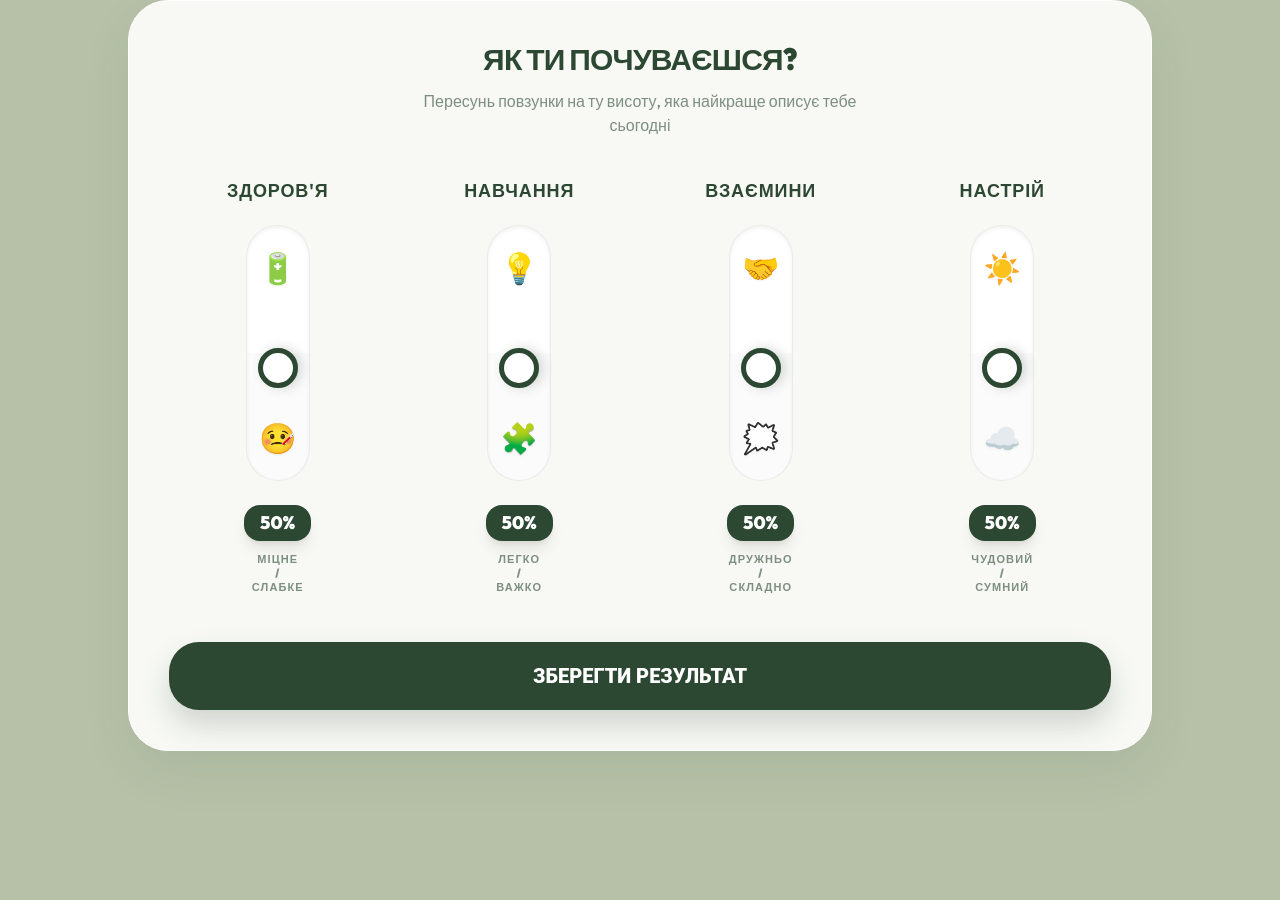
DemboRubinstein › submits data successfully
Click the button "ЗБЕРЕГТИ РЕЗУЛЬТАТ". click: (640, 676)
box: [169,642,1111,710]
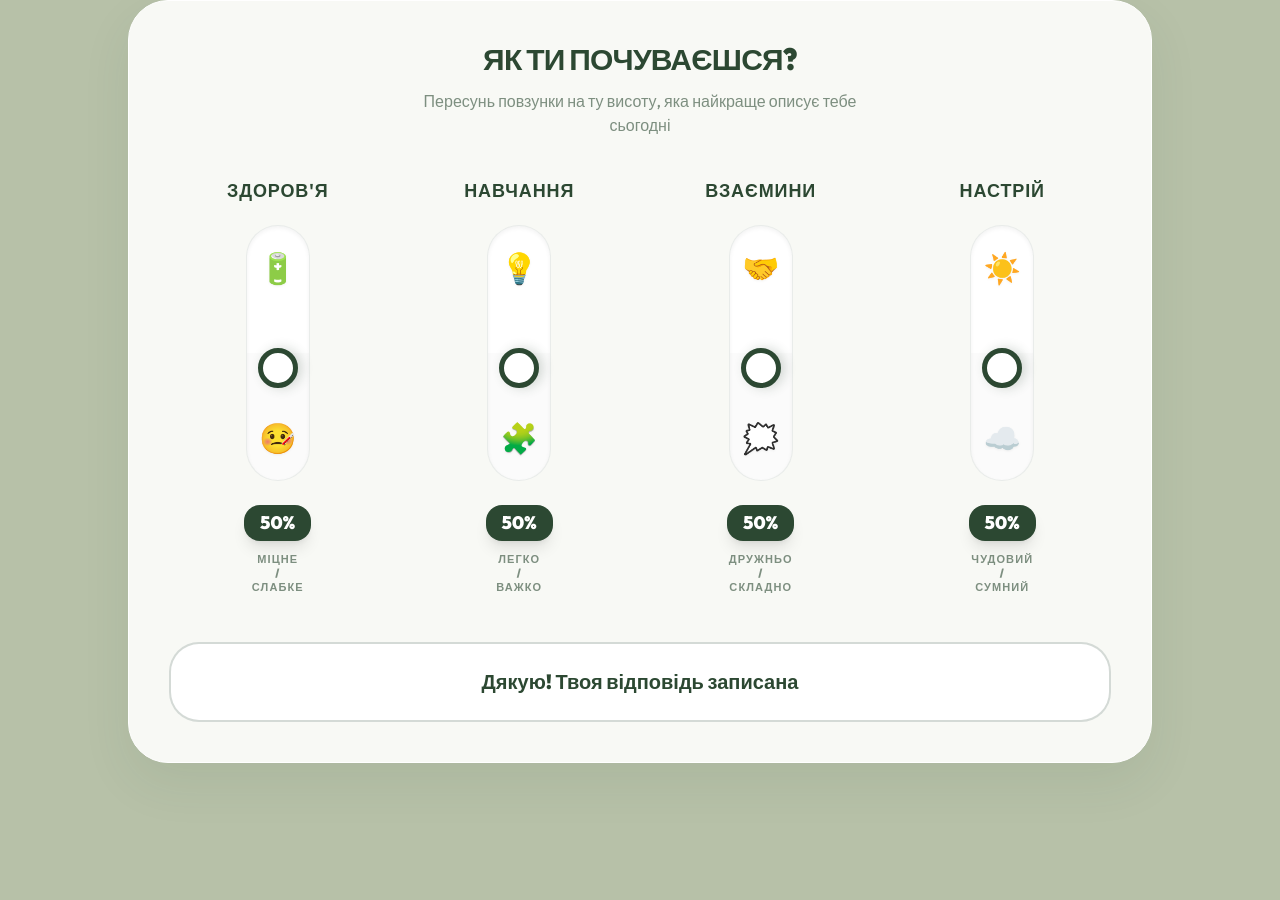
Now the text "Дякую! Твоя відповідь записана" is shown, box [169,642,1111,722]
